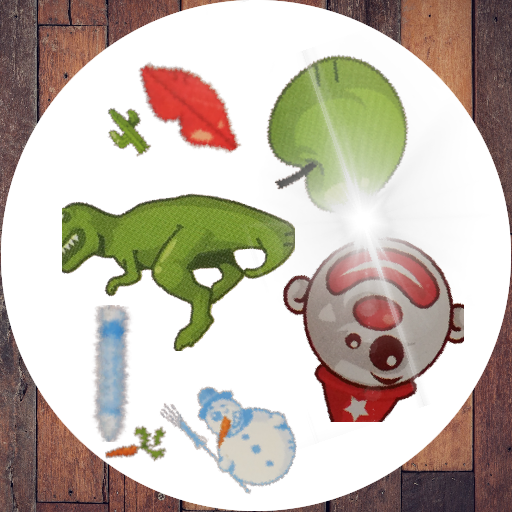apple_icon: (263, 53, 429, 219)
cactus_icon: (98, 103, 157, 162)
carrot_icon: (105, 417, 172, 484)
clown_icon: (272, 230, 464, 422)
dino_icon: (62, 118, 295, 351)
lips_icon: (132, 40, 257, 165)
pen_icon: (42, 305, 179, 442)
snowman_icon: (156, 367, 297, 508)
